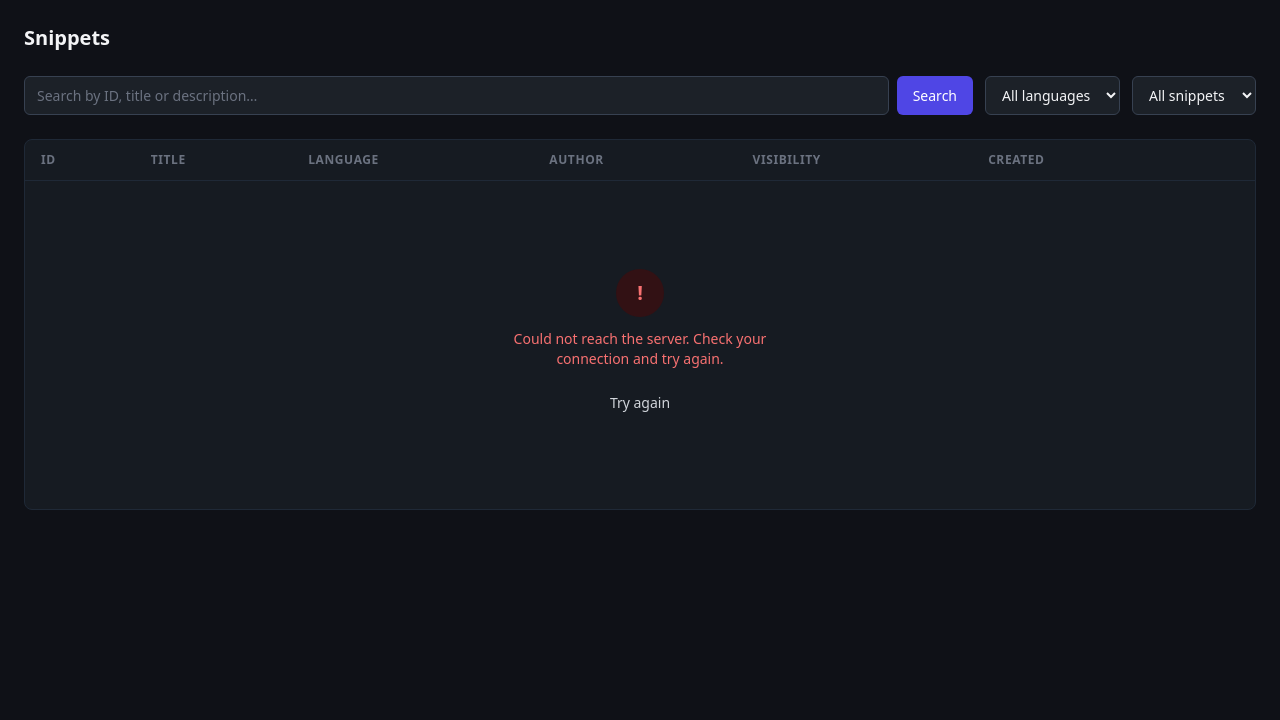
Test: AdminSnippetsPage › clicking "Try again" after an error re-fetches
What coordinates should you click on to do the following:
click the button "Try again"
I would click on:
 (640, 403)
Its box is [594,385,686,421].
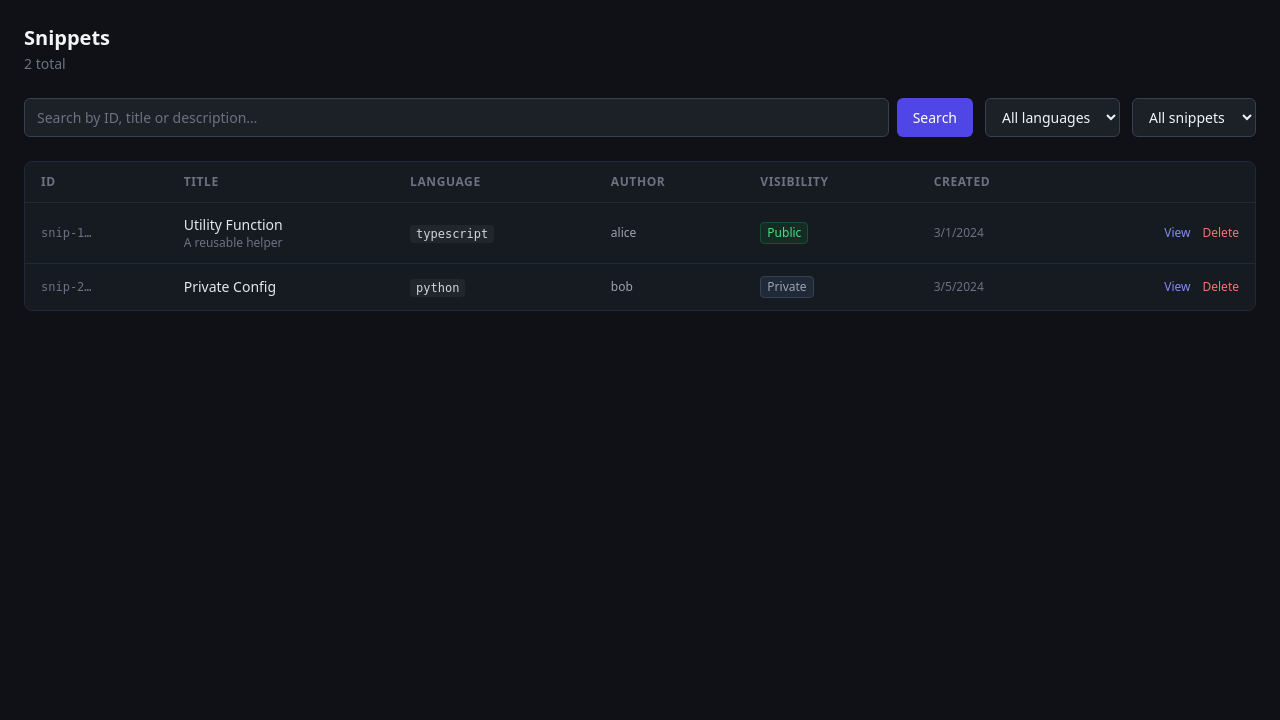
Now the text "Utility Function" is shown, box [184,215,283,234]
